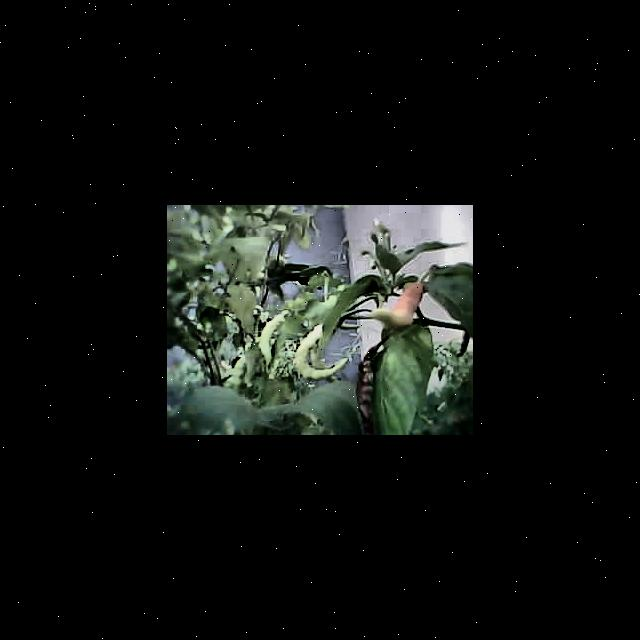Cabai: (369, 279, 420, 336)
